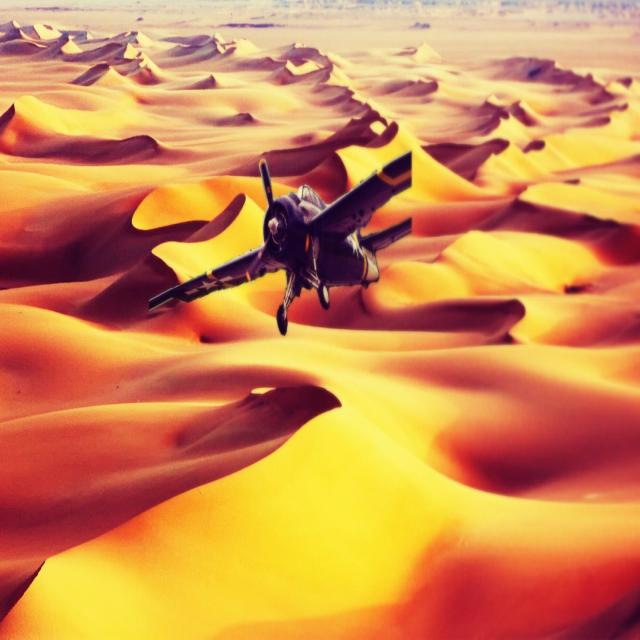airplane: (148, 148, 413, 336)
